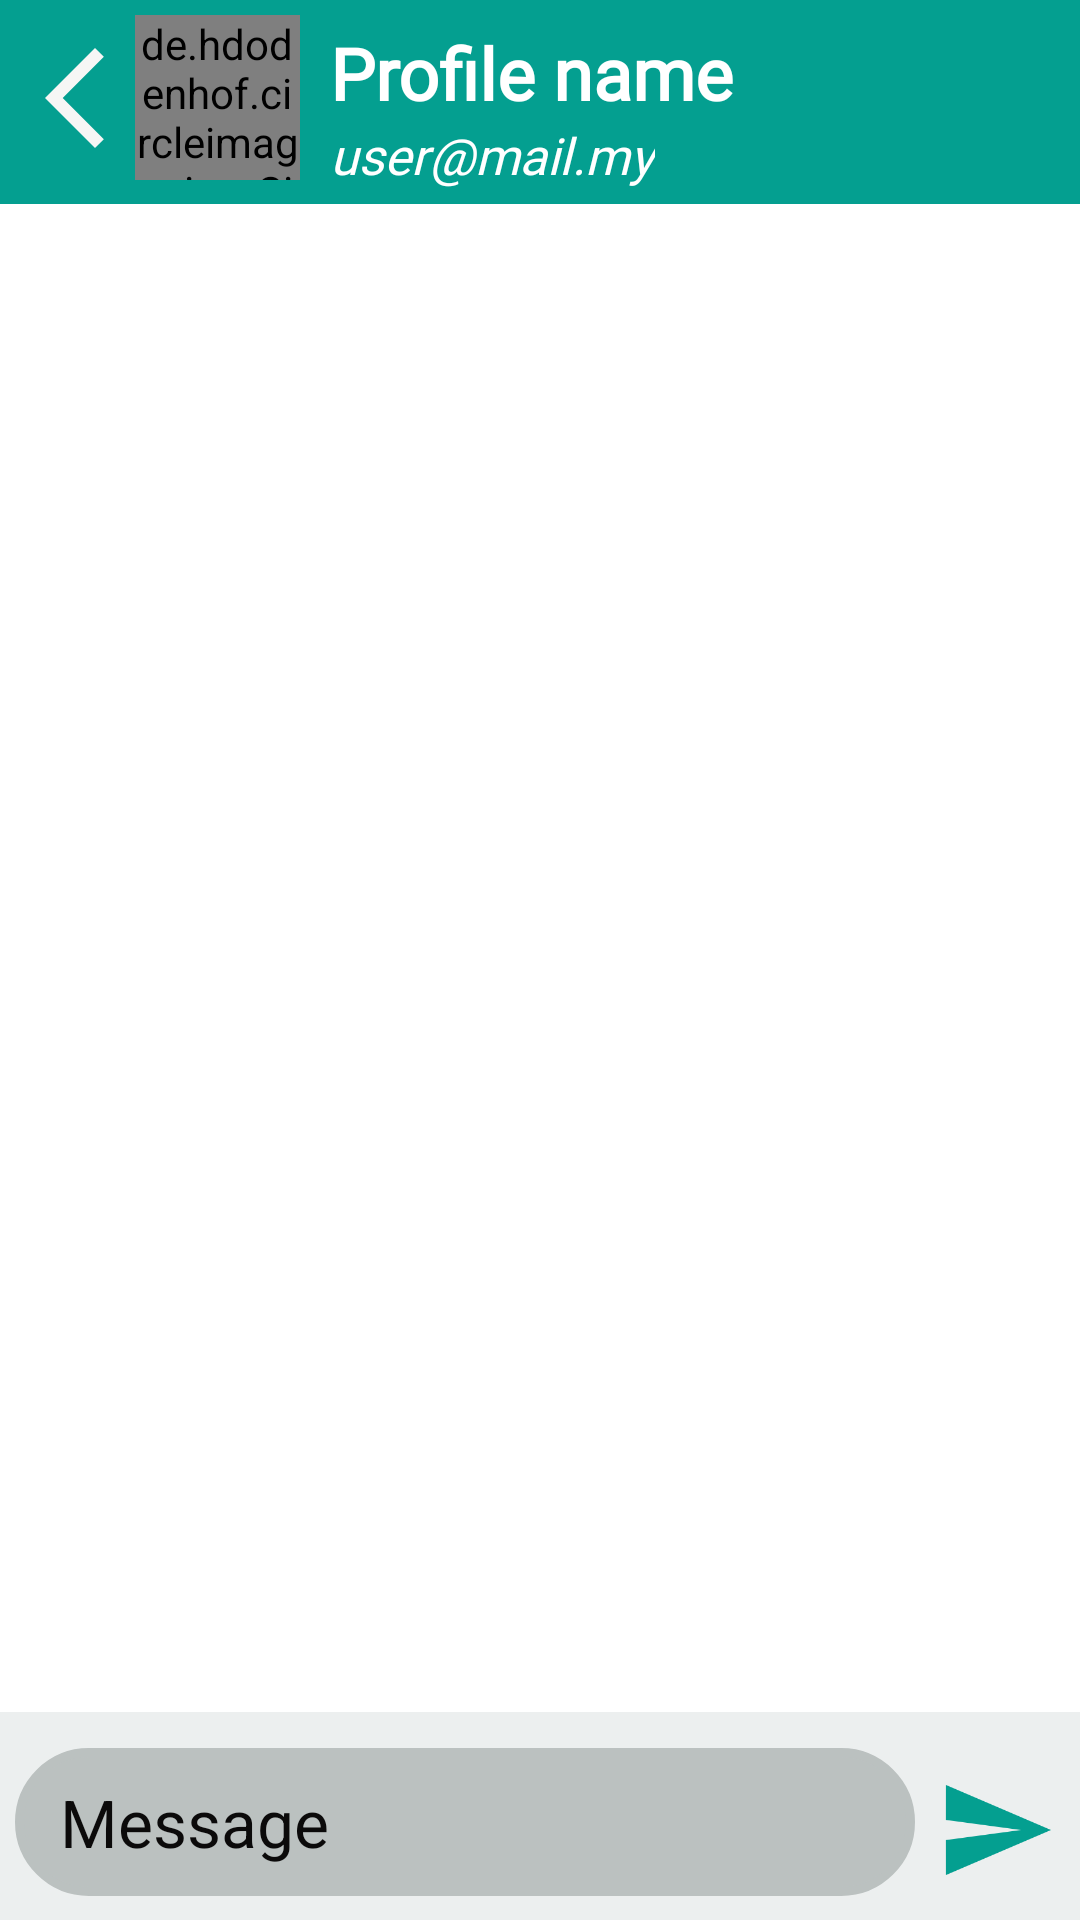

Icons on this 1080×1920 Android screen, each with its box as (x1, y1, x2, y2):
back: (45, 48, 104, 148)
send: (945, 1785, 1051, 1875)
